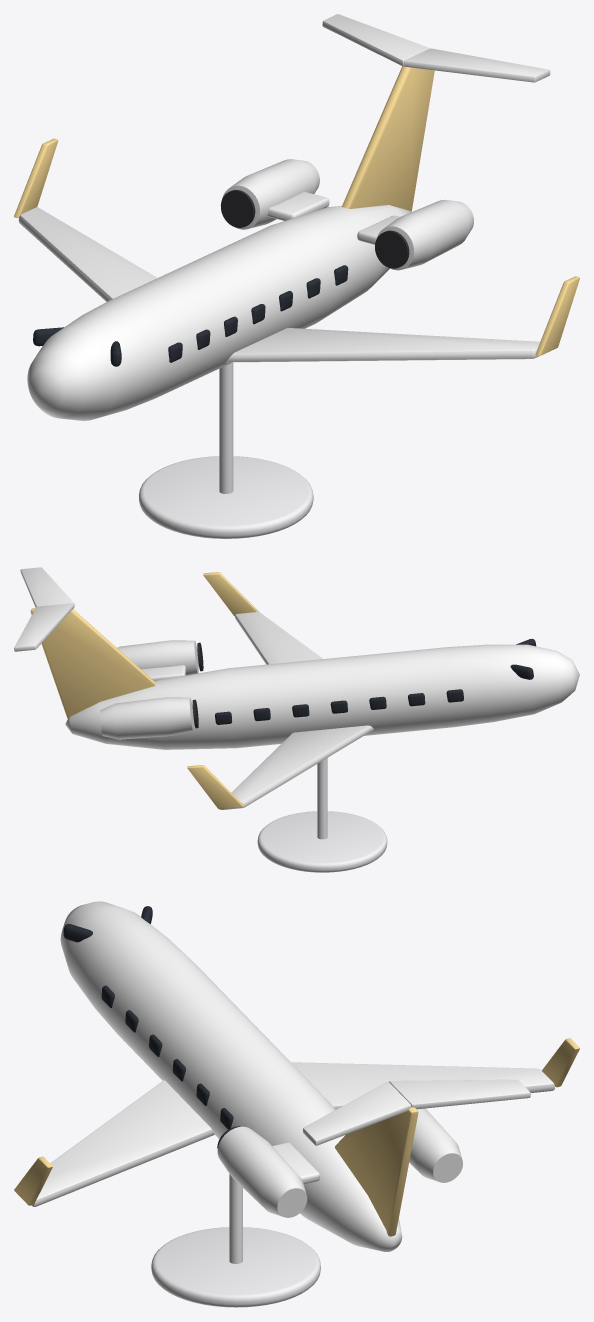
File: reward-private-jet.glb
3 renders of one model, top to bottom at view 1: azimuth 30°, elevation 25°; view 2: azimuth 150°, elevation 25°; view 3: azimuth 270°, elevation 25°, orthographic. The views are drawn at different scales.
Parts seen in each view (by area): view 1: fuselage, foot, wing.001, fin, wing, engine.001, engine, tailplane.001, tailplane, pole, winglet.001, winglet (+3 smaller); view 2: fuselage, fin, foot, wing, engine, wing.001, engine.001, tailplane, tailplane.001, winglet, winglet.001, pole (+1 smaller); view 3: fuselage, foot, wing.001, fin, wing, engine.001, tailplane, tailplane.001, engine, pole, winglet.001, winglet (+1 smaller).
Boxes of the visible parts, <box> form: fuselage: <box>27,205,411,420</box>; foot: <box>139,456,313,538</box>; wing.001: <box>226,328,539,362</box>; fin: <box>341,66,434,211</box>; wing: <box>18,207,157,301</box>; engine.001: <box>376,199,473,270</box>; engine: <box>222,159,319,229</box>; tailplane.001: <box>403,48,550,82</box>; tailplane: <box>322,14,429,65</box>; pole: <box>219,362,233,493</box>; winglet.001: <box>535,276,579,355</box>; winglet: <box>14,138,58,218</box>; fuselage: <box>65,644,579,749</box>; fin: <box>30,608,156,719</box>; foot: <box>257,811,387,872</box>; wing: <box>220,725,373,809</box>; engine: <box>100,697,193,739</box>; wing.001: <box>235,612,322,664</box>; engine.001: <box>117,640,198,675</box>; tailplane: <box>14,603,74,651</box>; tailplane.001: <box>20,567,74,607</box>; winglet: <box>187,765,243,809</box>; winglet.001: <box>203,572,258,616</box>; pole: <box>317,758,327,839</box>; fuselage: <box>60,901,402,1251</box>; foot: <box>151,1227,320,1307</box>; wing.001: <box>32,1080,214,1206</box>; fin: <box>335,1107,418,1236</box>; wing: <box>291,1062,554,1109</box>; engine.001: <box>217,1126,307,1217</box>; tailplane: <box>389,1079,530,1109</box>; tailplane.001: <box>303,1081,411,1145</box>; engine: <box>409,1108,462,1182</box>; pole: <box>229,1174,242,1263</box>; winglet.001: <box>14,1156,52,1205</box>; winglet: <box>542,1038,579,1087</box>.
Size of the model in its own units: 5.02 by 2.45 by 4.
